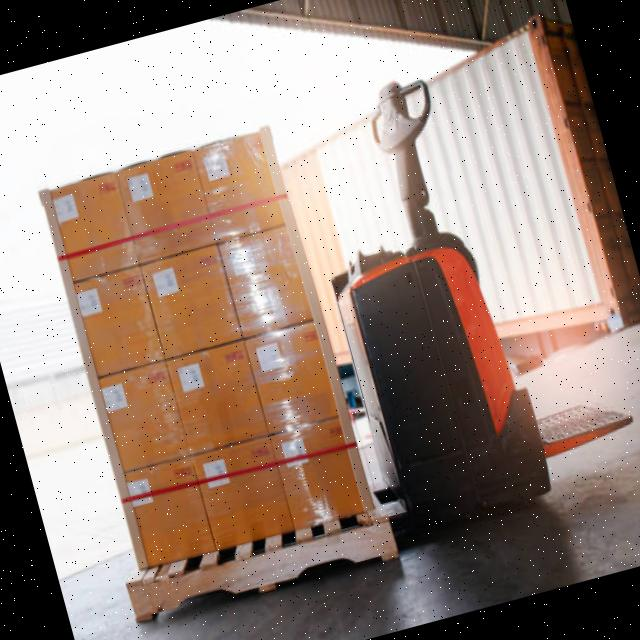Wooden-Pallets: (122, 502, 406, 640)
